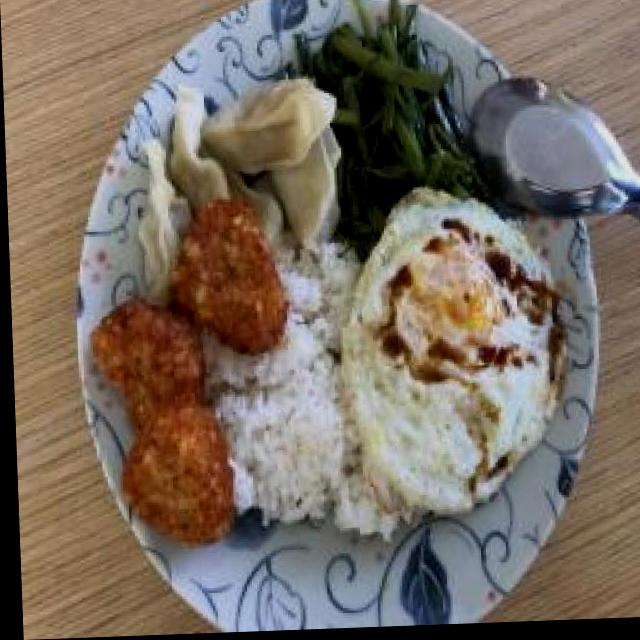carrot_eggs: (164, 197, 292, 358)
fried_dumplings: (165, 72, 339, 215)
fried_eggs: (341, 191, 568, 515)
rice: (226, 308, 351, 532)
triangle_hash_brown: (87, 294, 237, 553)
water_spinach: (328, 21, 471, 195)
